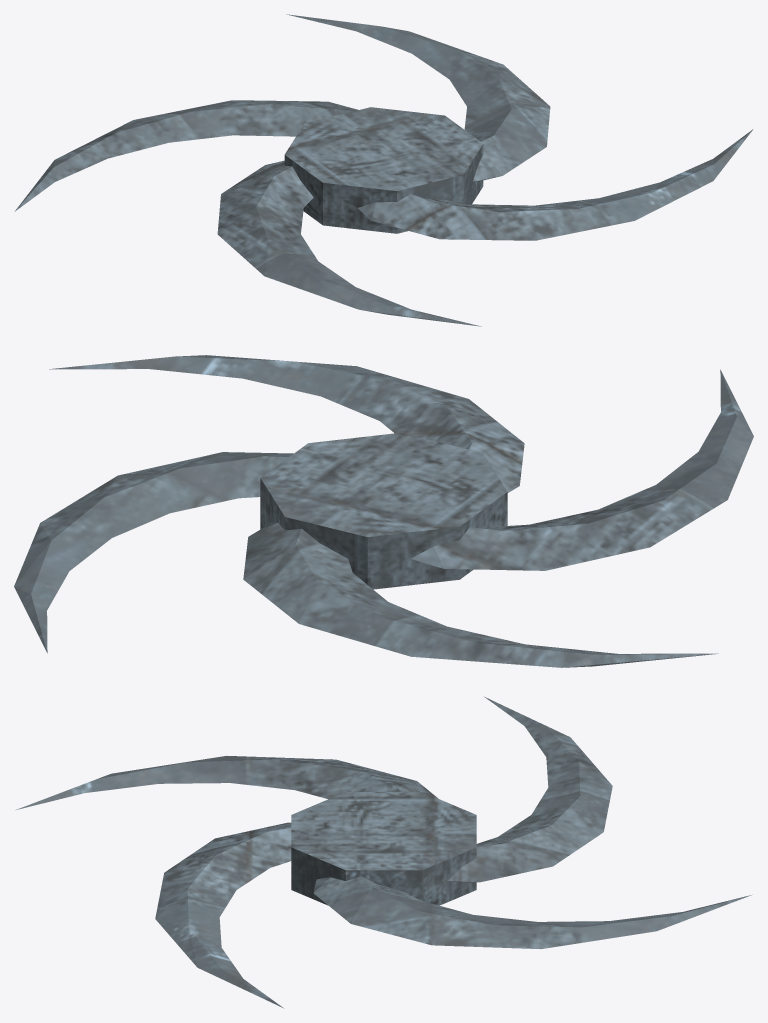
The model's file is projectile_blades.glb.
3 renders of one model, top to bottom at view 1: azimuth 30°, elevation 25°; view 2: azimuth 150°, elevation 25°; view 3: azimuth 270°, elevation 25°, orthographic. The views are drawn at different scales.
Visible parts, largest first — view 1: Blades; view 2: Blades; view 3: Blades.
Boxes of the visible parts, left/top/right/bottom form: Blades: left=14, top=14, right=753, bottom=326; Blades: left=14, top=355, right=753, bottom=667; Blades: left=15, top=696, right=752, bottom=1008.
Bounding box in the file's own units: 1.06 × 0.0676 × 1.06.
Materials: 1 (1 with a texture image).
